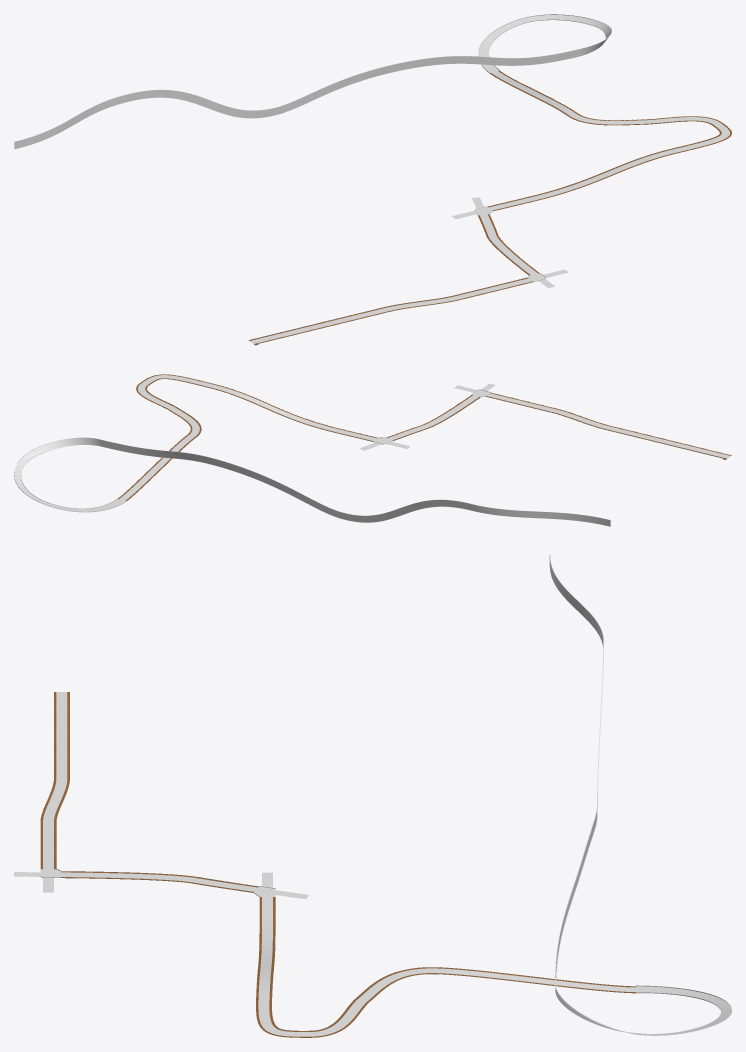
The model's file is CityTrack.fbx.
The picture shows the model from 3 angles, top to bottom: view 1: azimuth 30°, elevation 25°; view 2: azimuth 150°, elevation 25°; view 3: azimuth 270°, elevation 25°; orthographic projection. The views are drawn at different scales.
Parts seen in each view (by area): view 1: Track_1.004, Track_1.003, SideTrack1.003, Track_1.001, SideTrack1.001, Track_1.002; view 2: Track_1.004, Track_1.003, SideTrack1.003, Track_1.001, SideTrack1.001, Track_1.002, SideTrack1.002; view 3: Track_1.003, Track_1.004, SideTrack1.003, Track_1.001, Track_1.002, SideTrack1.001.
Part boxes in pixels (<box>): Track_1.004: <box>14,14,611,149</box>; Track_1.003: <box>451,71,729,219</box>; SideTrack1.003: <box>487,70,731,211</box>; Track_1.001: <box>250,269,568,343</box>; SideTrack1.001: <box>248,277,533,344</box>; Track_1.002: <box>471,197,555,288</box>; Track_1.004: <box>14,437,610,526</box>; Track_1.003: <box>119,375,410,501</box>; SideTrack1.003: <box>117,374,377,501</box>; Track_1.001: <box>454,385,730,458</box>; SideTrack1.001: <box>485,392,731,459</box>; Track_1.002: <box>359,383,495,450</box>; SideTrack1.002: <box>386,395,480,440</box>; Track_1.003: <box>258,872,638,1036</box>; Track_1.004: <box>549,555,731,1035</box>; SideTrack1.003: <box>256,897,635,1037</box>; Track_1.001: <box>43,692,67,892</box>; Track_1.002: <box>14,872,308,899</box>; SideTrack1.001: <box>40,692,69,869</box>.
Size of the model in its own units: 69419 by 8406 by 52389.
Materials: 6 (2 with a texture image).
